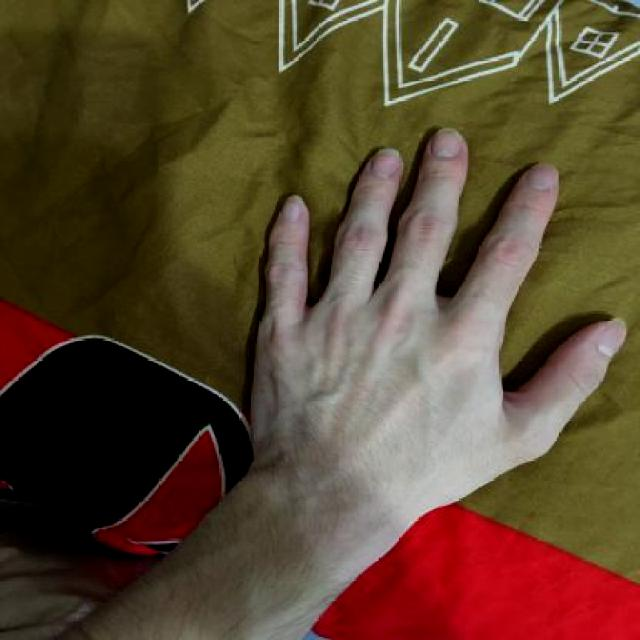no_glove: (233, 103, 639, 548)
